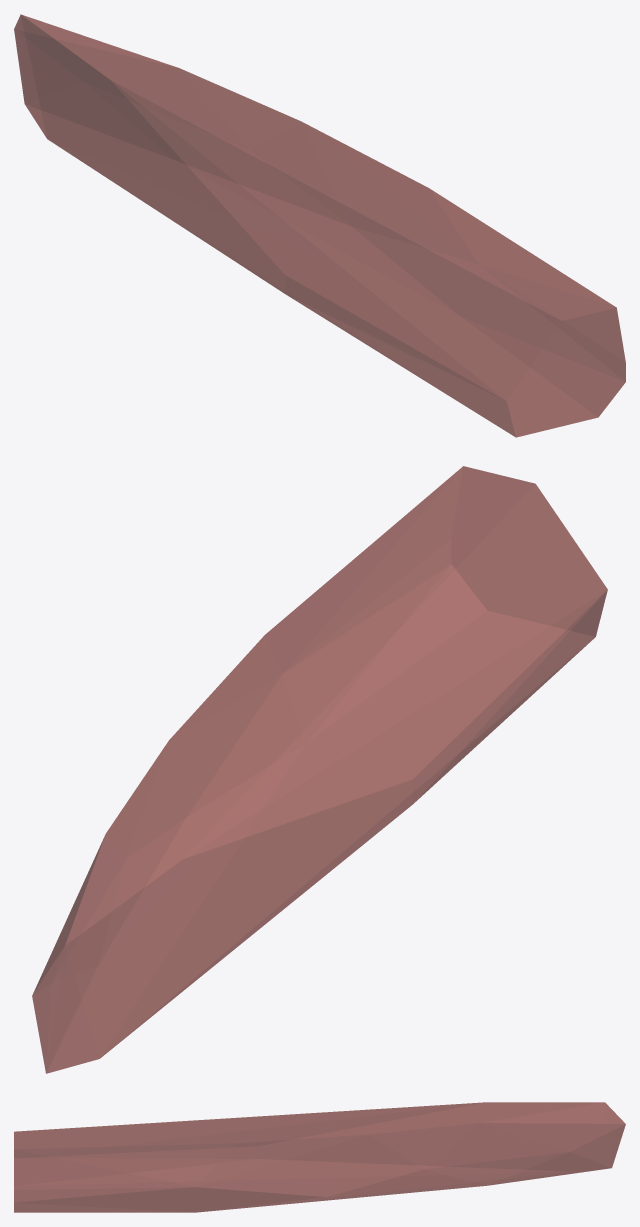
3 views of the same model, one above another, from view 1: azimuth 30°, elevation 25°; view 2: azimuth 150°, elevation 25°; view 3: azimuth 270°, elevation 25° (orthographic). The views are drawn at different scales.
Parts seen in each view (by area): view 1: Shape_IndexedFaceSet.046_Shape_IndexedFaceSet.6309; view 2: Shape_IndexedFaceSet.046_Shape_IndexedFaceSet.6309; view 3: Shape_IndexedFaceSet.046_Shape_IndexedFaceSet.6309.
Part boxes in pixels (left/top/right/bottom): Shape_IndexedFaceSet.046_Shape_IndexedFaceSet.6309: left=14, top=14, right=625, bottom=437; Shape_IndexedFaceSet.046_Shape_IndexedFaceSet.6309: left=32, top=466, right=607, bottom=1073; Shape_IndexedFaceSet.046_Shape_IndexedFaceSet.6309: left=14, top=1102, right=625, bottom=1212.
Size of the model in its own units: 0.0404 by 0.0261 by 0.2091.
